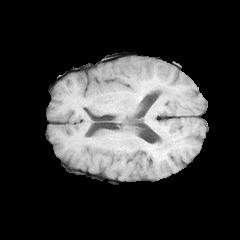glioma: (92, 57, 172, 96)
